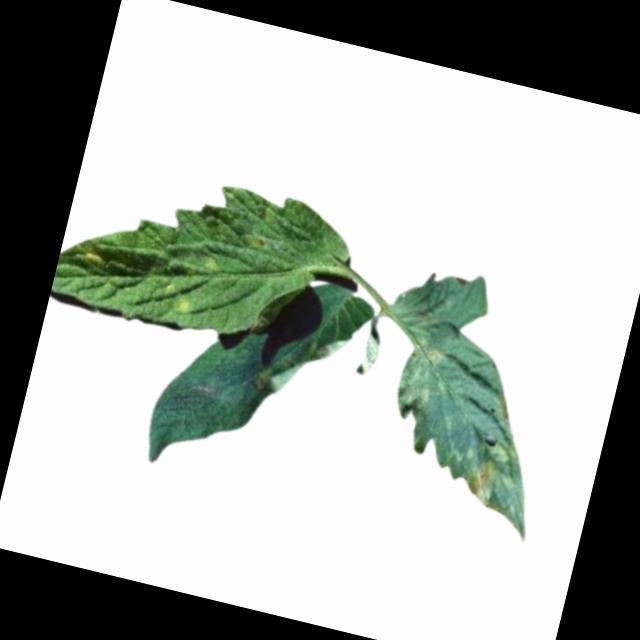Leaf_Mold: (255, 321, 350, 407), (390, 339, 451, 421), (463, 440, 517, 512), (155, 278, 200, 318), (80, 241, 113, 274)
